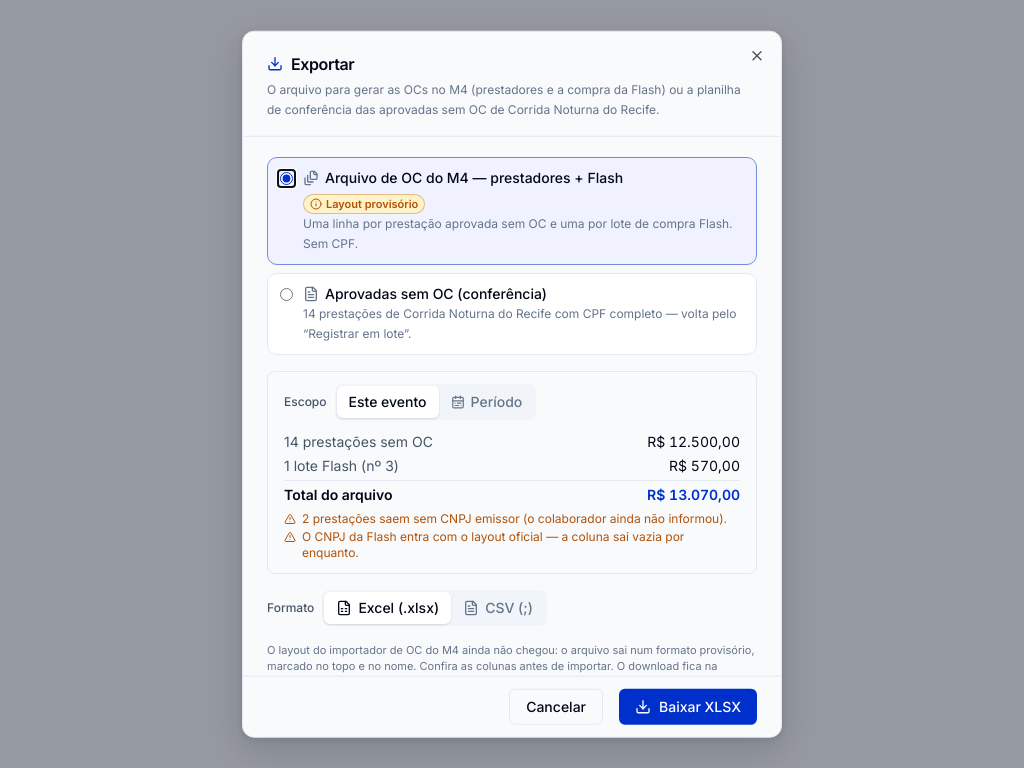
Test: Exportar: arquivo de OC do M4 › por período: consulta com as datas e avisa os eventos do fluxo antigo; período invertido trava
Click the radio button with test id "oc-escopo-periodo".
click(486, 401)  # box 451,393 -> 522,410
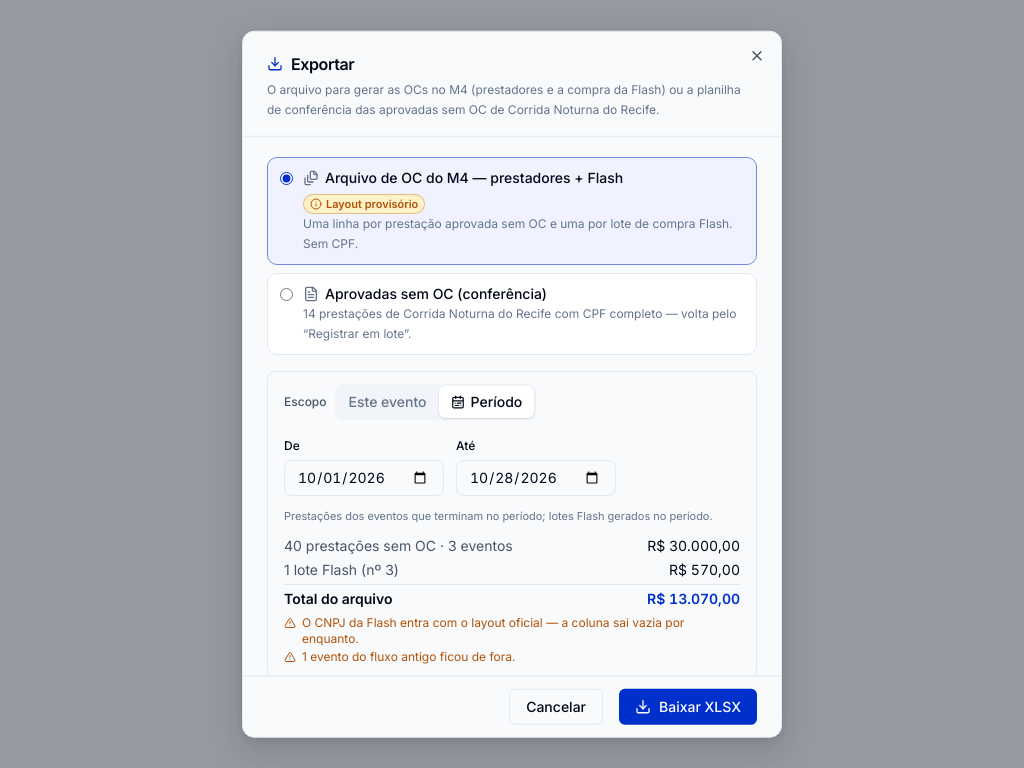
expect the text "40 prestações sem OC · 3 eventos" is shown: met, box 284,537 -> 513,554
expect the element with test id "oc-arquivo-previa" shows "1 evento do fluxo antigo ficou de fora": met, box 284,536 -> 740,665
Type "2026-11-30" into the date field with test id "oc-arquivo-inicio".
click(364, 478); type("2026-11-30")  # box 284,460 -> 444,496
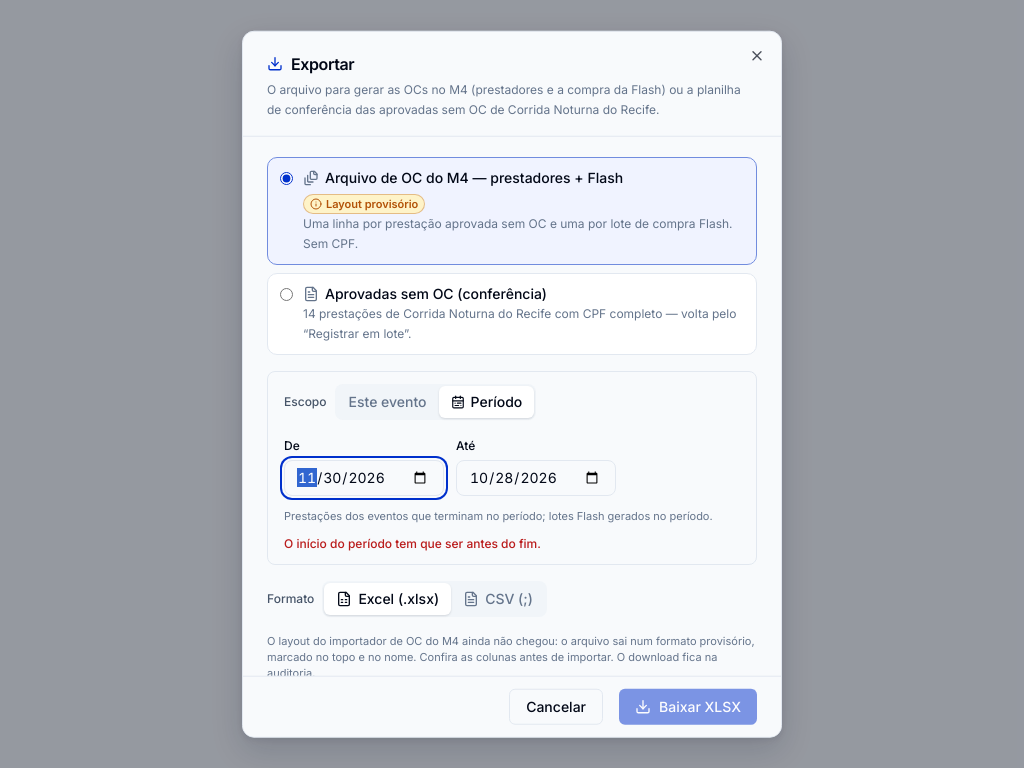
expect the button with test id "oc-baixar" is disabled: met, box 619,688 -> 757,724
expect the text "O início do período tem que ser antes do fim." is shown: met, box 284,536 -> 541,551
